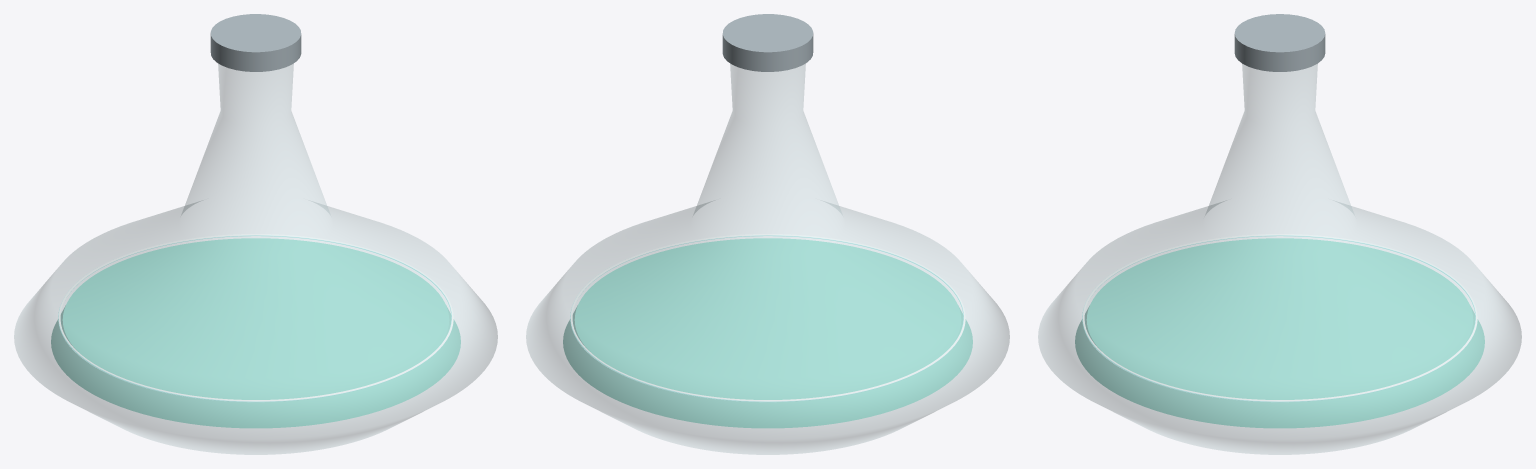
File: fernbach-flask.glb
3 renders of one model, left to right at view 1: azimuth 30°, elevation 25°; view 2: azimuth 150°, elevation 25°; view 3: azimuth 270°, elevation 25°, orthographic.
Visible parts, largest first — view 1: broad_thick_fernbach_glass, green_media_fill_with_meniscus, silver_foil_cap, bright_fill_line; view 2: broad_thick_fernbach_glass, green_media_fill_with_meniscus, silver_foil_cap, bright_fill_line; view 3: broad_thick_fernbach_glass, green_media_fill_with_meniscus, silver_foil_cap, bright_fill_line.
Part boxes in pixels (x1,y1,x2,y2): broad_thick_fernbach_glass: (14,63,497,454); green_media_fill_with_meniscus: (51,238,460,427); silver_foil_cap: (210,14,301,71); bright_fill_line: (58,234,453,402); broad_thick_fernbach_glass: (526,63,1009,454); green_media_fill_with_meniscus: (563,238,972,427); silver_foil_cap: (722,14,813,71); bright_fill_line: (570,234,965,402); broad_thick_fernbach_glass: (1038,64,1521,454); green_media_fill_with_meniscus: (1075,238,1484,427); silver_foil_cap: (1234,14,1325,71); bright_fill_line: (1082,234,1477,402).
Bounding box in the file's own units: 14.4 × 11.77 × 14.4.
